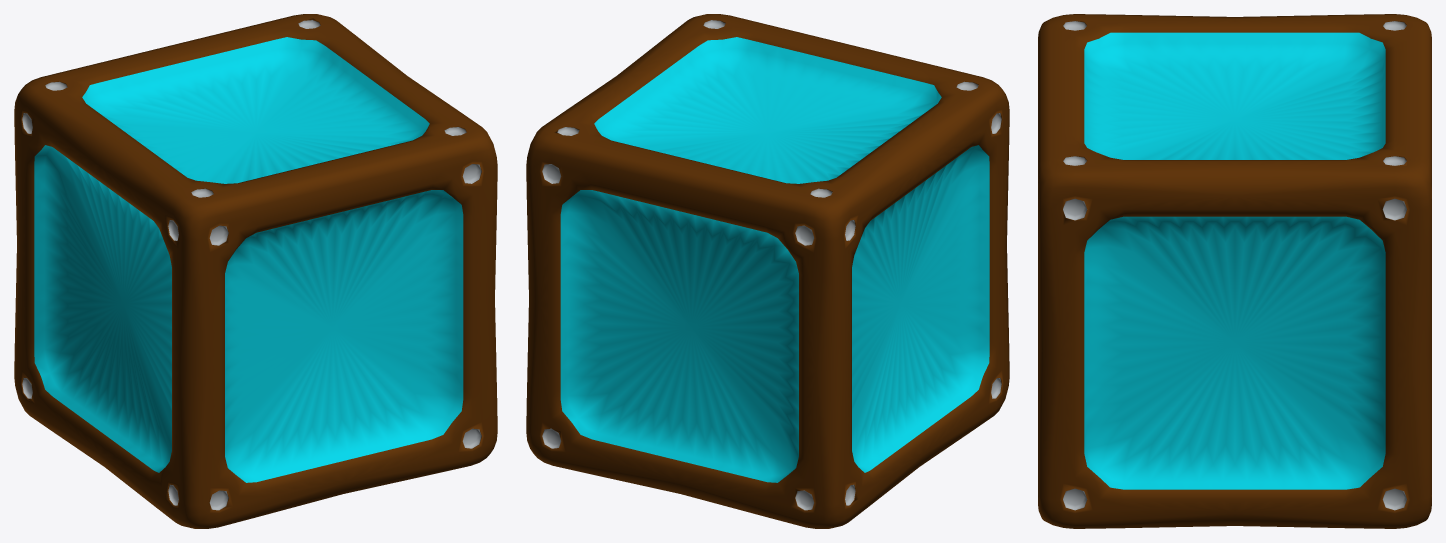
File: Blue.fbx
The picture shows the model from 3 angles, left to right: view 1: azimuth 30°, elevation 25°; view 2: azimuth 150°, elevation 25°; view 3: azimuth 270°, elevation 25°; orthographic projection. The views are drawn at different scales.
Parts seen in each view (by area): view 1: Cube; view 2: Cube; view 3: Cube.
Part boxes in pixels (box(x1,y1,x2,y2)): Cube: box(14, 14, 497, 528); Cube: box(526, 14, 1009, 528); Cube: box(1038, 14, 1431, 528).
Size of the model in its own units: 200 by 200 by 200.
